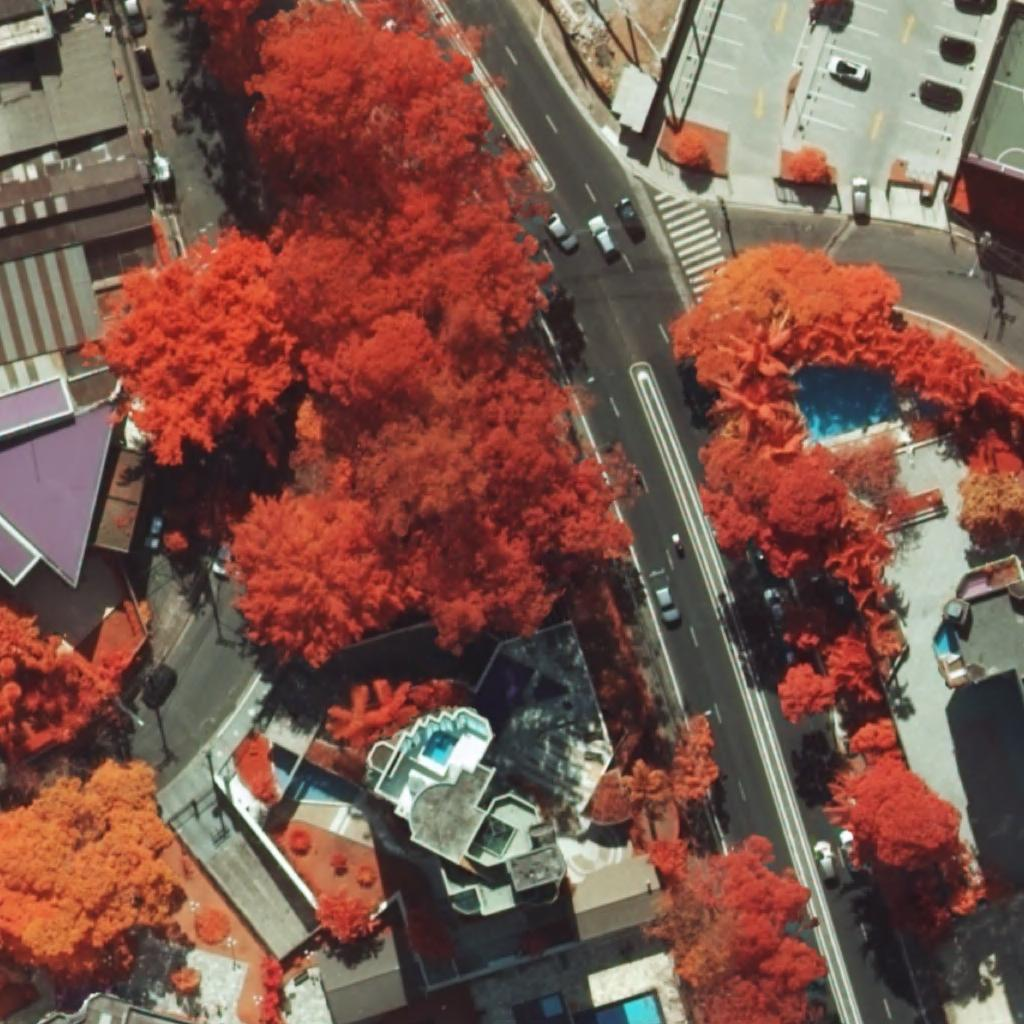pool: (796, 368, 901, 442), (572, 989, 666, 1024), (422, 731, 459, 764), (934, 622, 960, 656)
